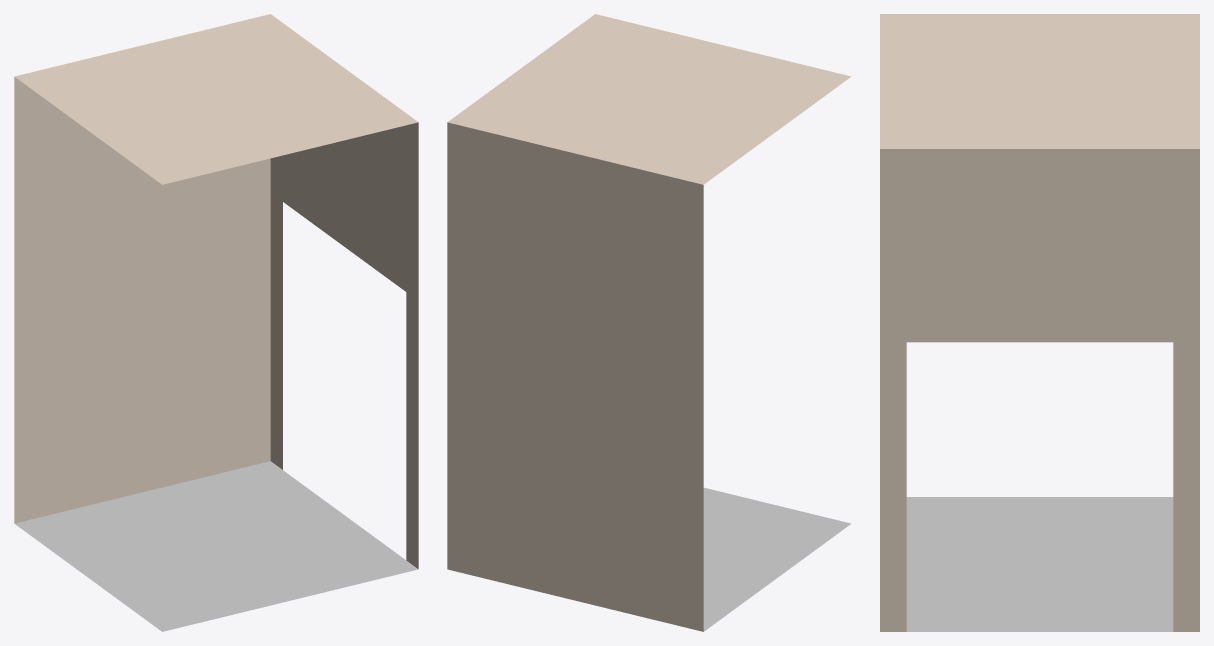
File: L28-Hallway-5.obj
The picture shows the model from 3 angles, left to right: view 1: azimuth 30°, elevation 25°; view 2: azimuth 150°, elevation 25°; view 3: azimuth 270°, elevation 25°; orthographic projection. The views are drawn at different scales.
Visible parts, largest first — view 1: L28-Hallway-5; view 2: L28-Hallway-5; view 3: L28-Hallway-5.
Part boxes in pixels (left/top/right/bottom): L28-Hallway-5: left=14, top=14, right=418, bottom=631; L28-Hallway-5: left=447, top=14, right=851, bottom=631; L28-Hallway-5: left=880, top=14, right=1199, bottom=631.
Size of the model in its own units: 3 by 5 by 3.
